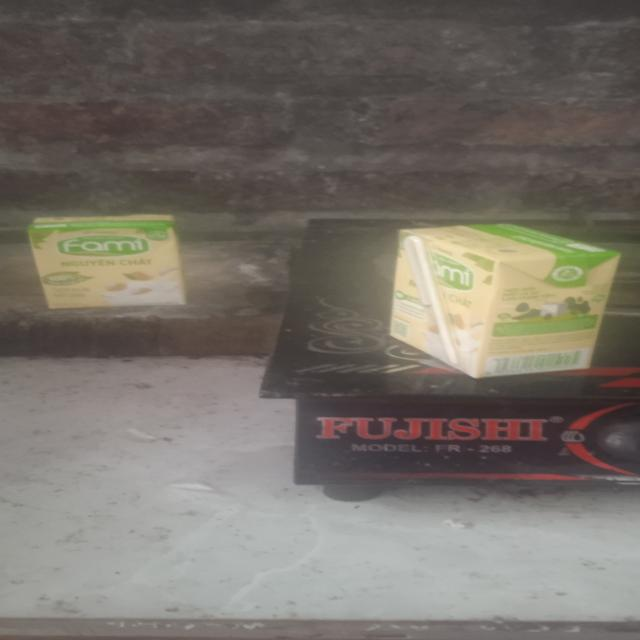Fami: (376, 220, 627, 381), (23, 213, 200, 314)
